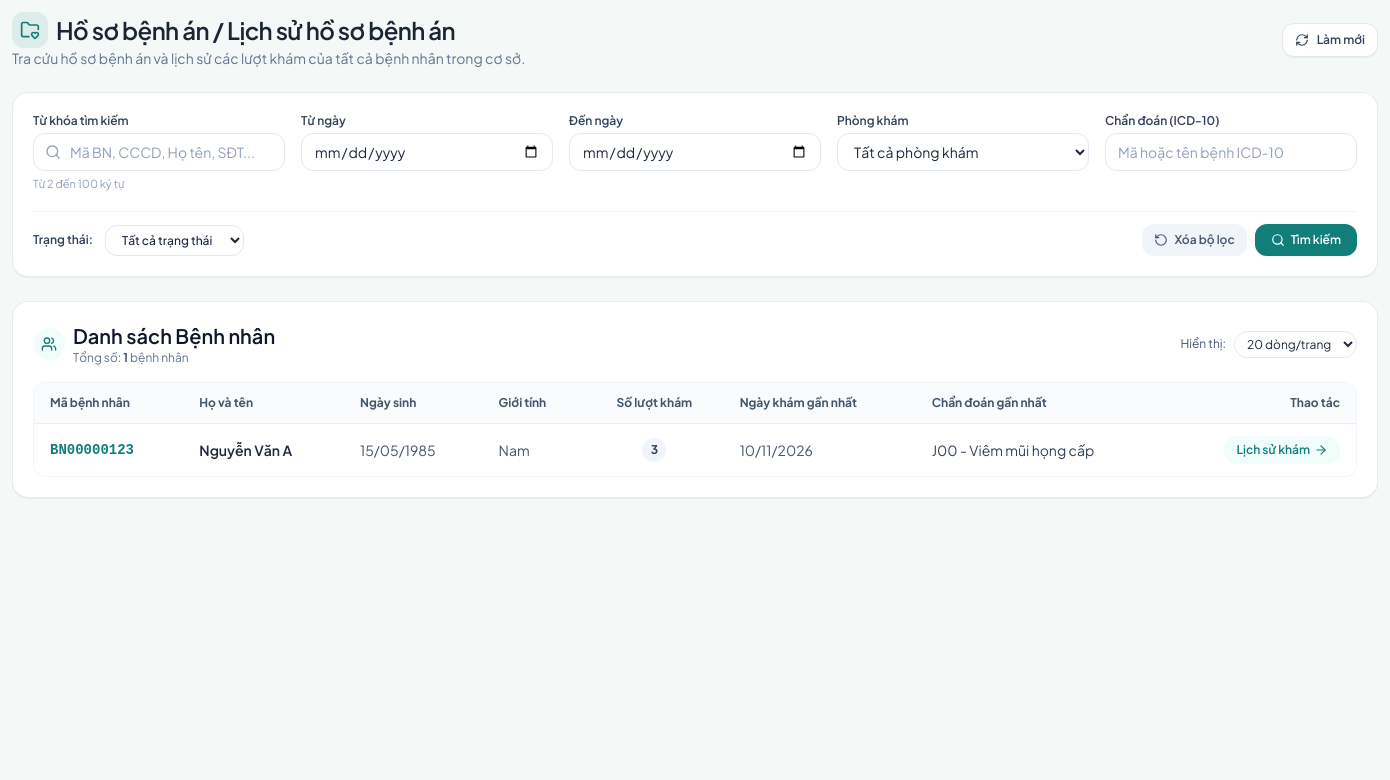
Test: MedicalRecordsPage (UC-51) › validates the date range (MSG50) and the keyword length (MSG132)
Expected: the text "BN00000123" is shown, [34, 424, 183, 476]
Type "2026-11-20" into the date field labelled "Từ ngày" at (427, 152), box [301, 133, 553, 171]
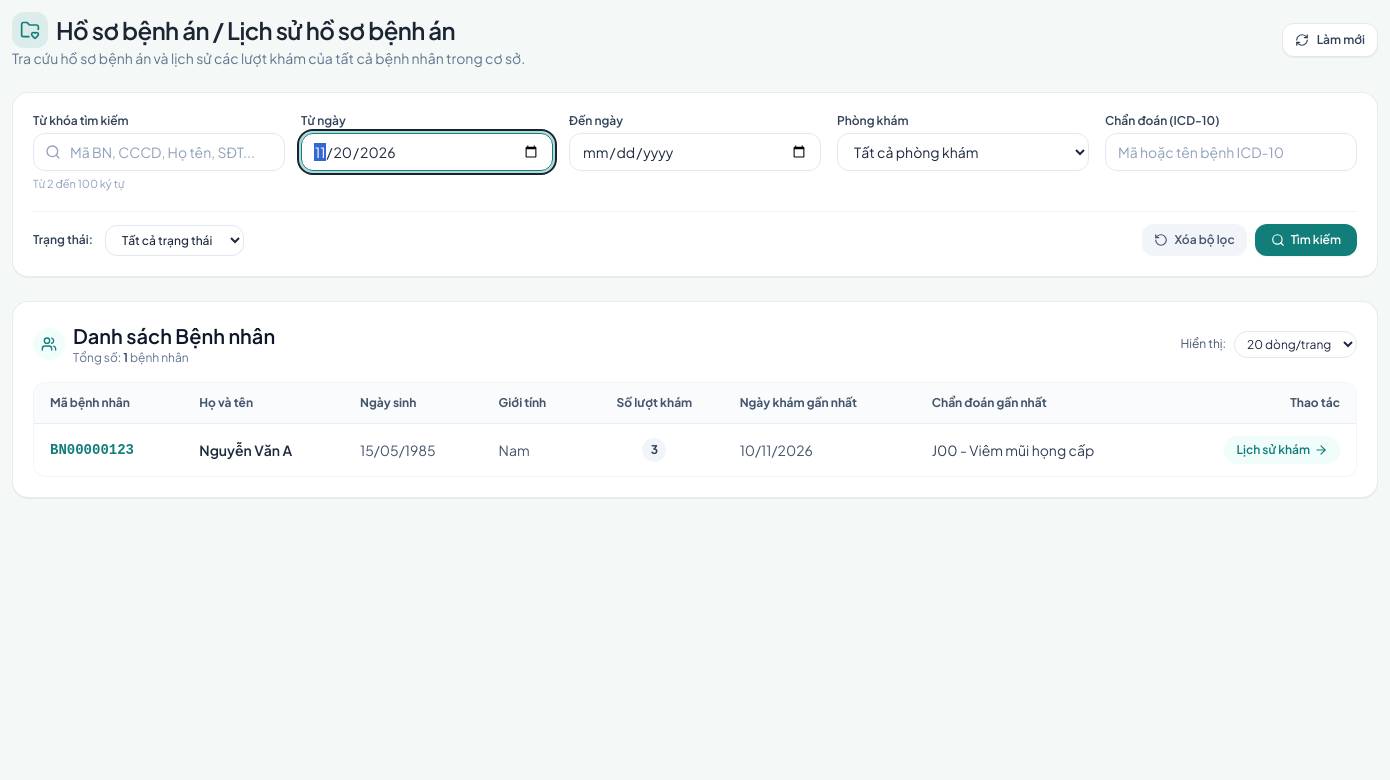
Type "2026-11-10" into the date field labelled "Đến ngày" at (695, 152), box [569, 133, 821, 171]
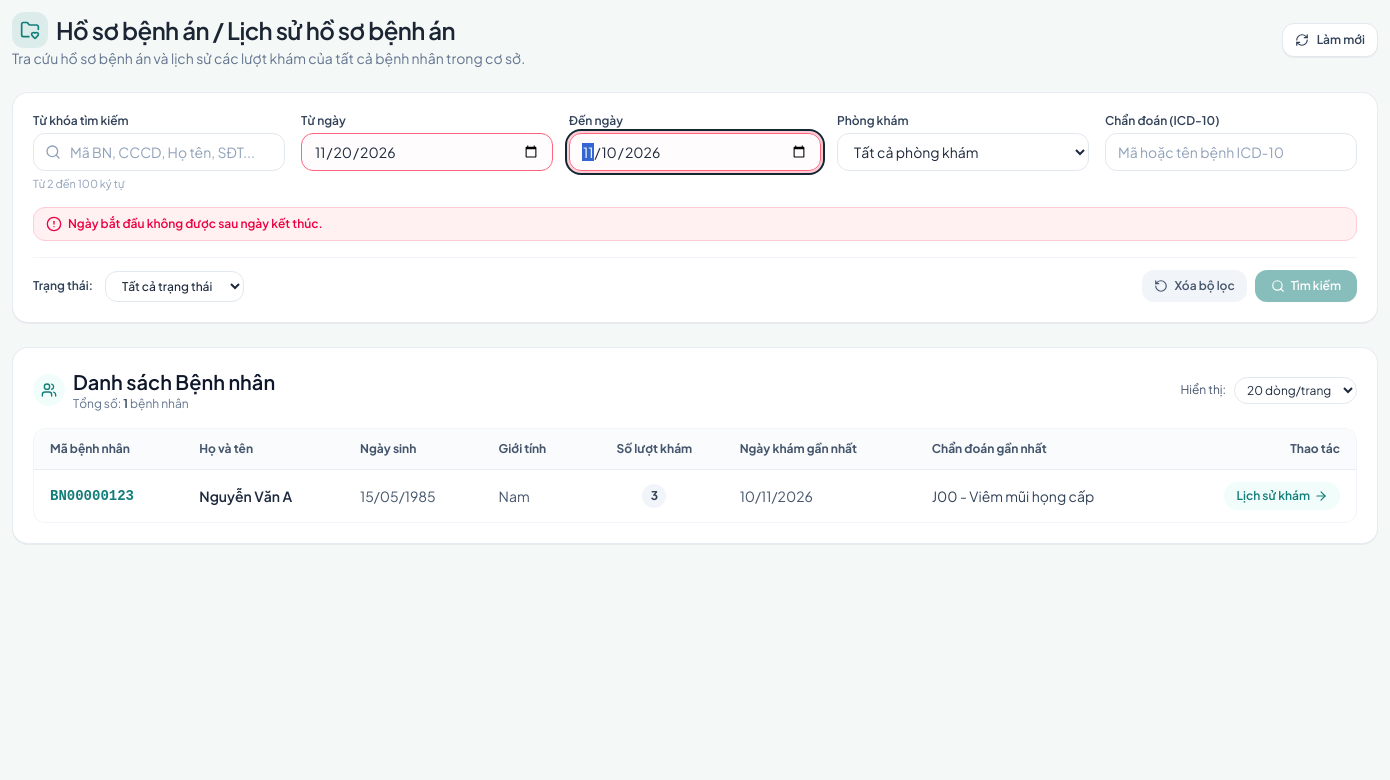
Expected: the text "Ngày bắt đầu không được sau ngày kết thúc." is shown, [68, 216, 323, 232]
Type "a" into the field labelled "Từ khóa tìm kiếm" at (159, 152), box [33, 133, 285, 171]
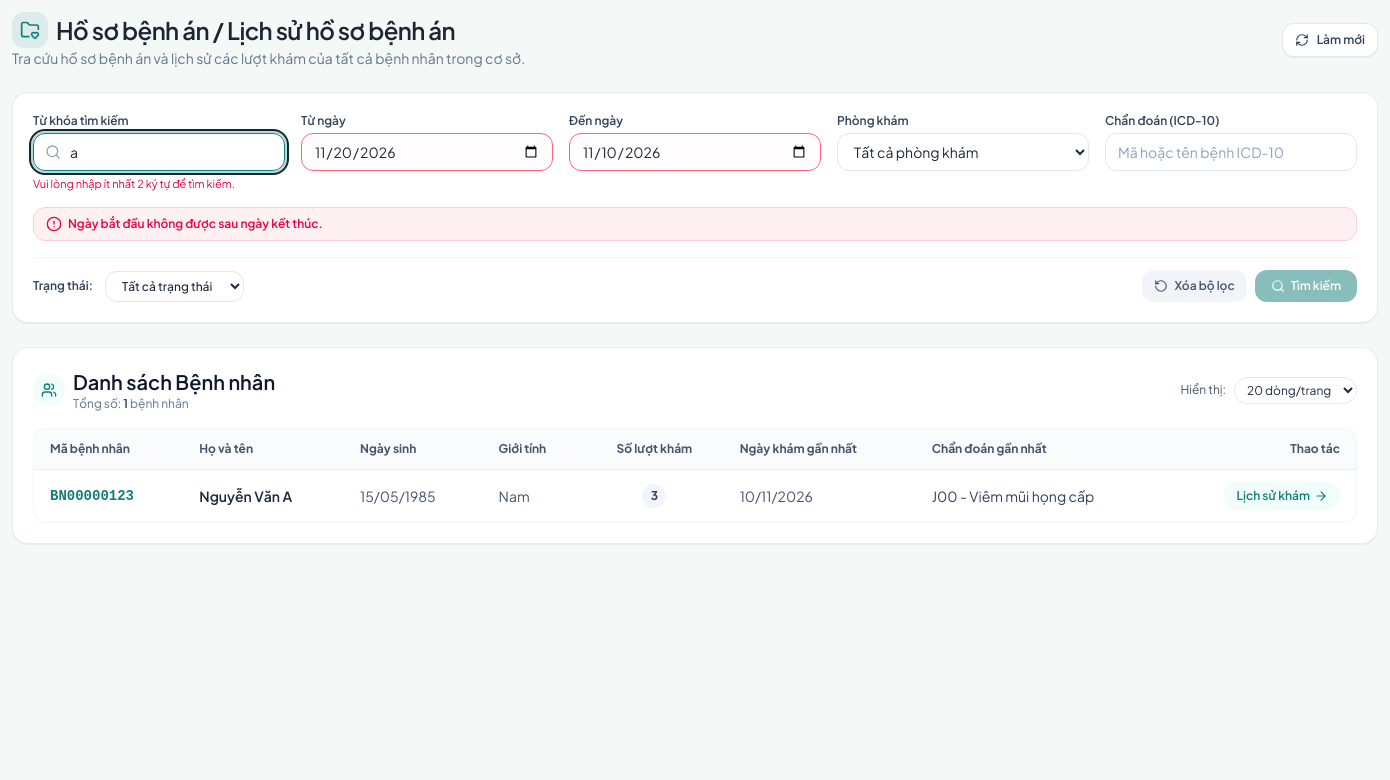
Expected: the button "Tìm kiếm" is disabled, [1255, 270, 1357, 302]
Expected: the text "Vui lòng nhập ít nhất 2 ký tự để tìm kiếm." is shown, [33, 177, 235, 190]
